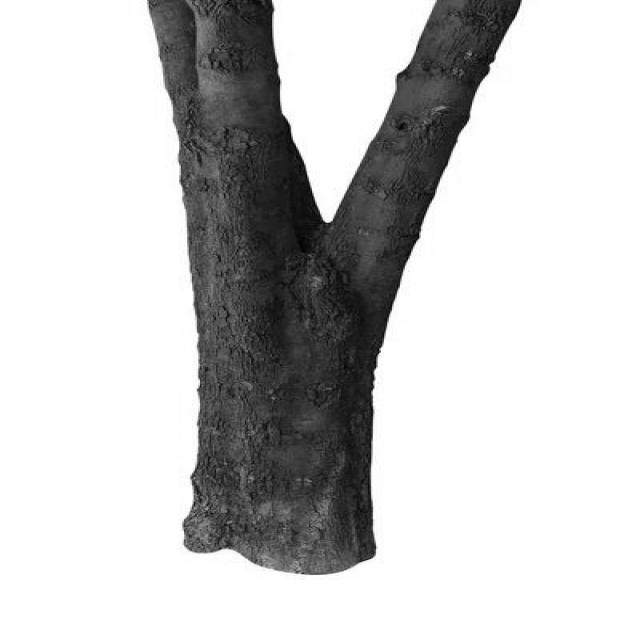Tree: (149, 0, 521, 574)
